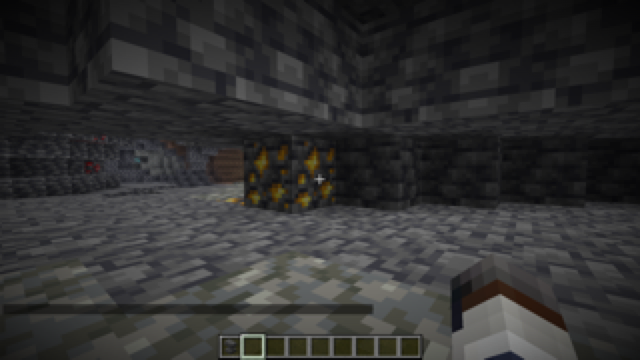gold: (223, 136, 339, 209)
redstone: (84, 161, 101, 177), (90, 133, 108, 144)
